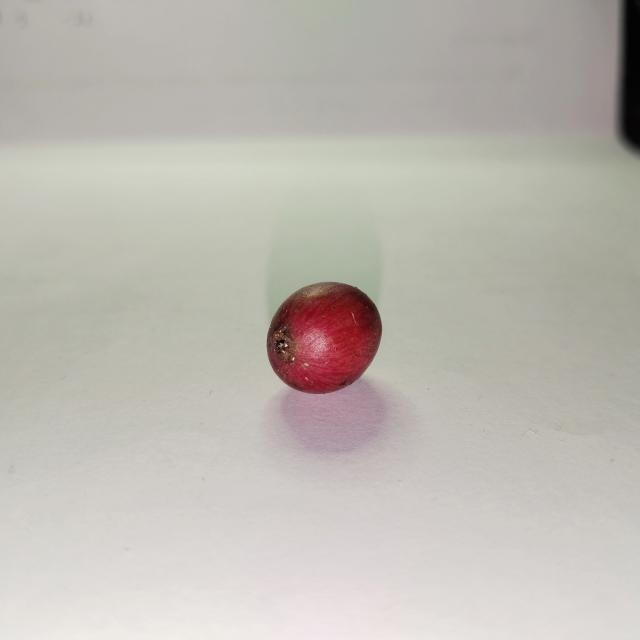Infectado: (266, 282, 383, 397)
